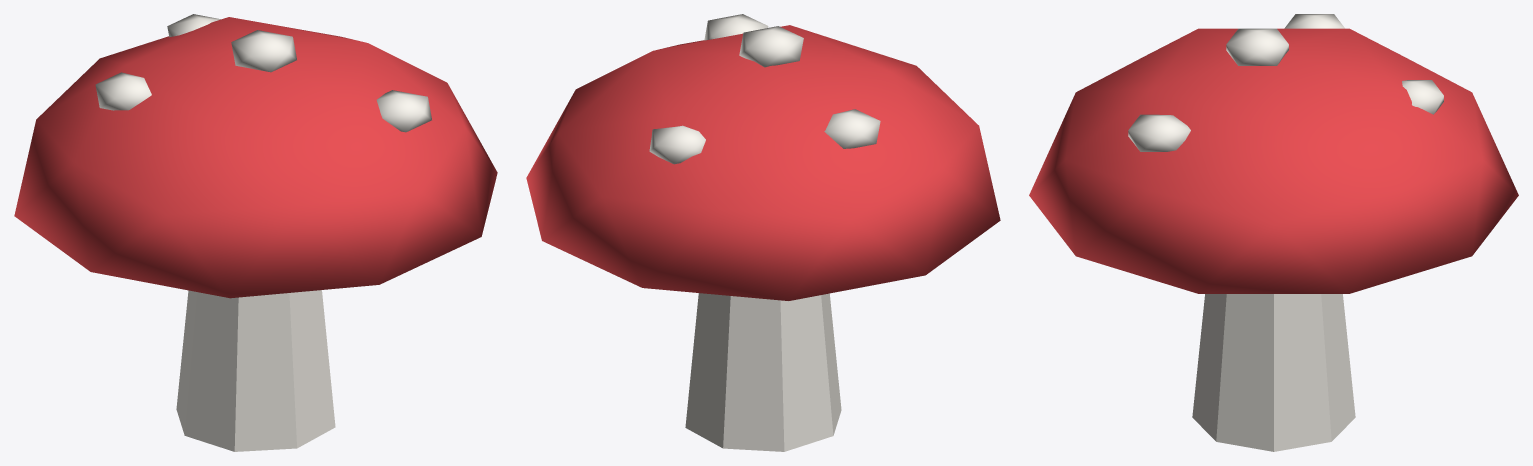
Rendered from mushroom.glb.
3 renders of one model, left to right at view 1: azimuth 30°, elevation 25°; view 2: azimuth 150°, elevation 25°; view 3: azimuth 270°, elevation 25°, orthographic.
Parts seen in each view (by area): view 1: mushroom; view 2: mushroom; view 3: mushroom.
Part boxes in pixels (<box>): mushroom: <box>14,14,497,451</box>; mushroom: <box>526,14,1000,451</box>; mushroom: <box>1029,14,1518,451</box>.
Size of the model in its own units: 0.5706 by 0.5225 by 0.6.
